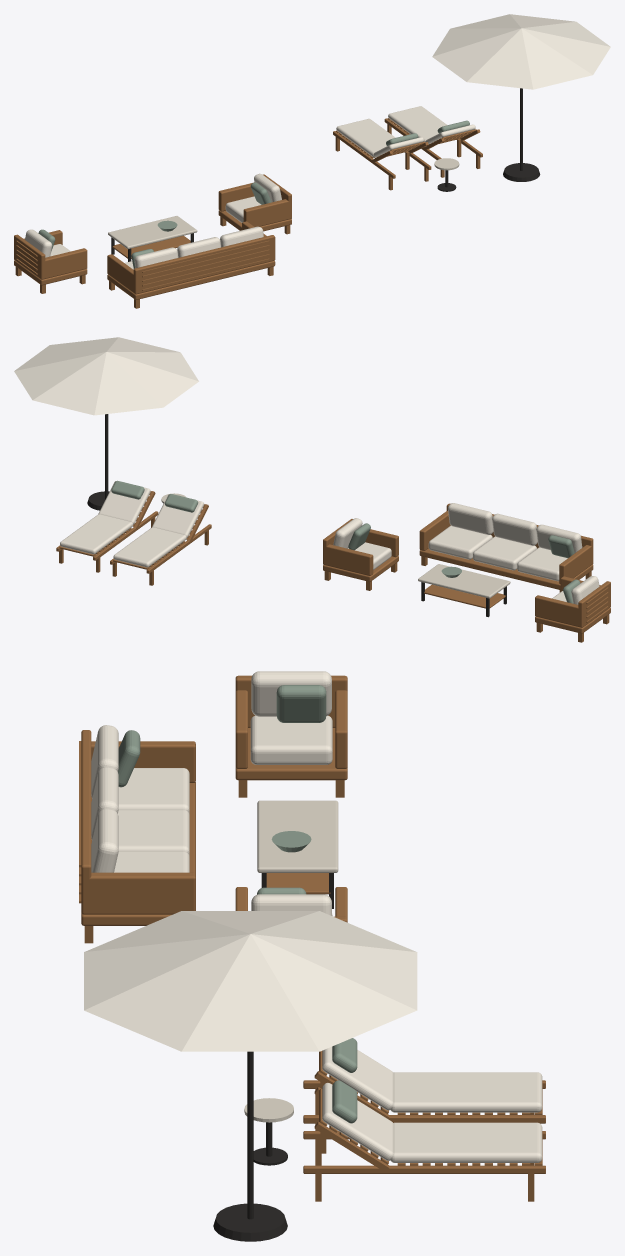
File: terrace_set.glb
3 renders of one model, top to bottom at view 1: azimuth 30°, elevation 25°; view 2: azimuth 150°, elevation 25°; view 3: azimuth 270°, elevation 25°, orthographic. The views are drawn at different scales.
Parts seen in each view (by area): view 1: MAT_teak_0, MAT_parasol_5, MAT_outdoor_fabric_1, MAT_table_stone_3, MAT_dark_metal_4, MAT_outdoor_accent_2; view 2: MAT_outdoor_fabric_1, MAT_teak_0, MAT_parasol_5, MAT_outdoor_accent_2, MAT_table_stone_3, MAT_dark_metal_4; view 3: MAT_parasol_5, MAT_outdoor_fabric_1, MAT_teak_0, MAT_table_stone_3, MAT_outdoor_accent_2, MAT_dark_metal_4.
Part boxes in pixels (x1=…): MAT_teak_0: x1=14, y1=118, x2=482, y2=308; MAT_parasol_5: x1=432, y1=14, x2=610, y2=89; MAT_outdoor_fabric_1: x1=25, y1=106, x2=475, y2=269; MAT_table_stone_3: x1=108, y1=158, x2=459, y2=249; MAT_dark_metal_4: x1=111, y1=88, x2=540, y2=261; MAT_outdoor_accent_2: x1=38, y1=120, x2=469, y2=268; MAT_outdoor_fabric_1: x1=60, y1=481, x2=599, y2=604; MAT_teak_0: x1=56, y1=491, x2=610, y2=642; MAT_parasol_5: x1=14, y1=337, x2=198, y2=415; MAT_outdoor_accent_2: x1=111, y1=480, x2=580, y2=603; MAT_table_stone_3: x1=161, y1=493, x2=510, y2=598; MAT_dark_metal_4: x1=87, y1=414, x2=506, y2=617; MAT_parasol_5: x1=84, y1=911, x2=417, y2=1051; MAT_outdoor_fabric_1: x1=91, y1=671, x2=542, y2=1162; MAT_teak_0: x1=79, y1=675, x2=545, y2=1201; MAT_table_stone_3: x1=244, y1=800, x2=338, y2=1122; MAT_outdoor_accent_2: x1=118, y1=685, x2=357, y2=1123; MAT_dark_metal_4: x1=213, y1=873, x2=333, y2=1241.
Bounding box in the file's own units: 10.34 × 2.59 × 3.76.
